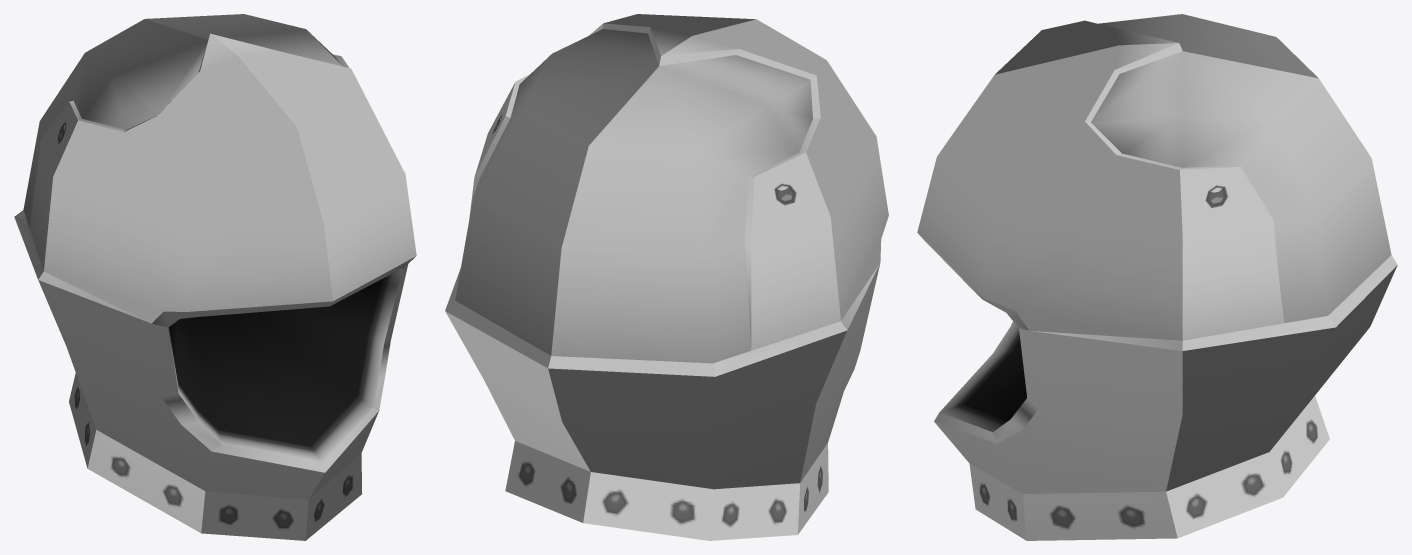
File: ArmetHelmet_F.glb
3 views of the same model, side by side, from view 1: azimuth 30°, elevation 25°; view 2: azimuth 150°, elevation 25°; view 3: azimuth 270°, elevation 25° (orthographic). The views are drawn at different scales.
Visible parts, largest first — view 1: ArmetHelmet_F; view 2: ArmetHelmet_F; view 3: ArmetHelmet_F.
Part boxes in pixels (<box>): ArmetHelmet_F: <box>14,14,416,540</box>; ArmetHelmet_F: <box>445,14,888,540</box>; ArmetHelmet_F: <box>917,14,1397,540</box>.
Size of the model in its own units: 0.2744 by 0.3366 by 0.3142.
Materials: 1 (1 with a texture image).
